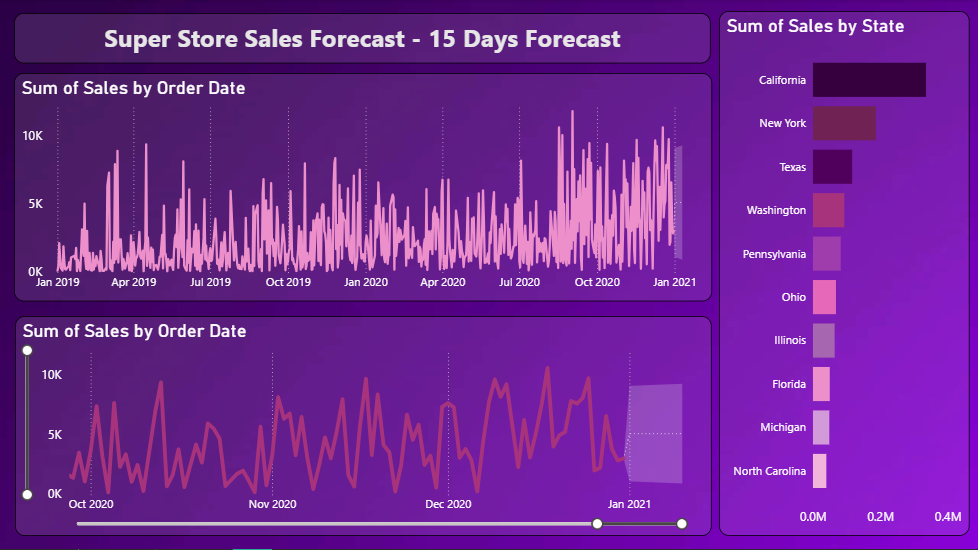

The page's visual inventory and layout, read from the dashboard file:
{"tool":"powerbi","page":{"name":"Page 2","canvas":[1280,720],"ordinal":1},"visuals":[{"type":"lineChart","fields":{"Y":["Sum(Table1.Sales)"],"Category":["Table1.Order Date"]},"box":[18.5,97.4,913.8,299],"z":0},{"type":"lineChart","fields":{"Y":["Sum(Table1.Sales)"],"Category":["Table1.Order Date"]},"box":[19.1,414.4,912.5,288],"z":1000},{"type":"clusteredBarChart","fields":{"Category":["Table1.State"],"Y":["Sum(Table1.Sales)"]},"box":[940.7,15.1,327.6,687],"z":2000},{"type":"textbox","box":[18.5,18.5,912.1,65.5],"z":3000}]}

Visuals, with their boxes in screenshot pixels (x1, y1, x2, y2), scaled from the page's 1280x720 canvas onto the 978x550 screenshot:
lineChart - Sum(Table1.Sales) x Table1.Order Date: 14/74/712/303
lineChart - Sum(Table1.Sales) x Table1.Order Date: 15/317/712/537
clusteredBarChart - Table1.State x Sum(Table1.Sales): 719/12/969/536
textbox: 14/14/711/64
